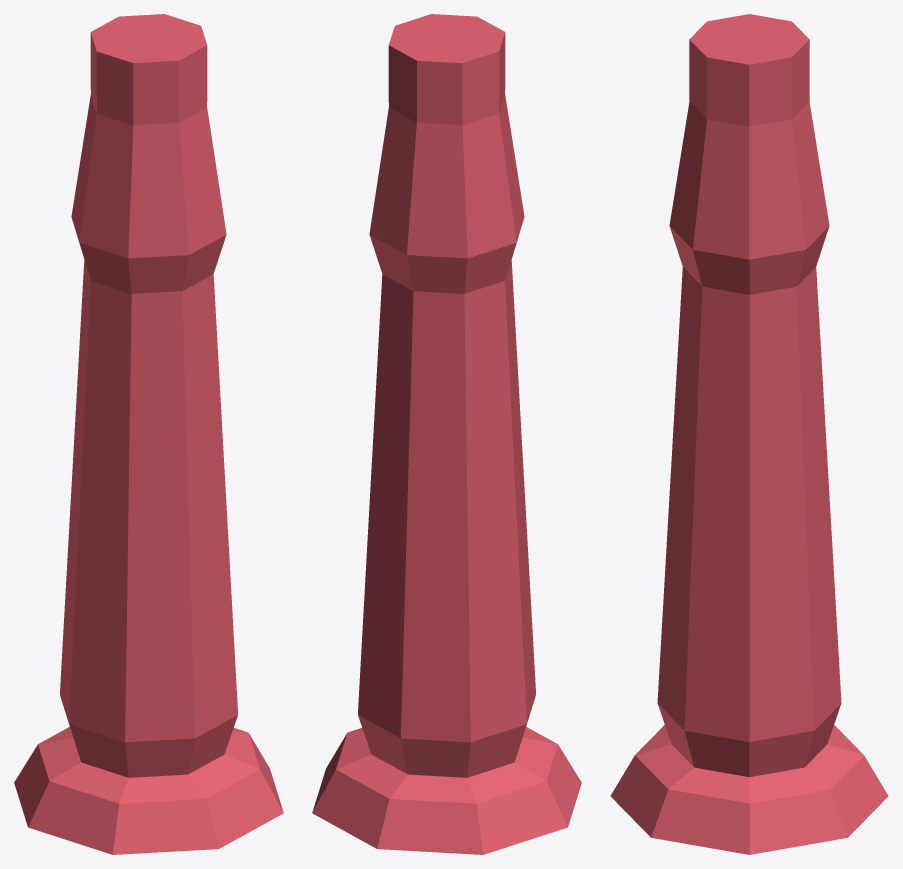
Rendered from decoration-pillar-egypt.fbx.
3 views of the same model, side by side, from view 1: azimuth 30°, elevation 25°; view 2: azimuth 150°, elevation 25°; view 3: azimuth 270°, elevation 25° (orthographic).
Parts seen in each view (by area): view 1: decoration-pillar-egypt; view 2: decoration-pillar-egypt; view 3: decoration-pillar-egypt.
Boxes of the visible parts, x1,y1,x2,y2 form: decoration-pillar-egypt: (14, 14, 283, 854); decoration-pillar-egypt: (312, 14, 581, 854); decoration-pillar-egypt: (610, 14, 888, 854).
Bounding box in the file's own units: 3 × 9 × 3.
